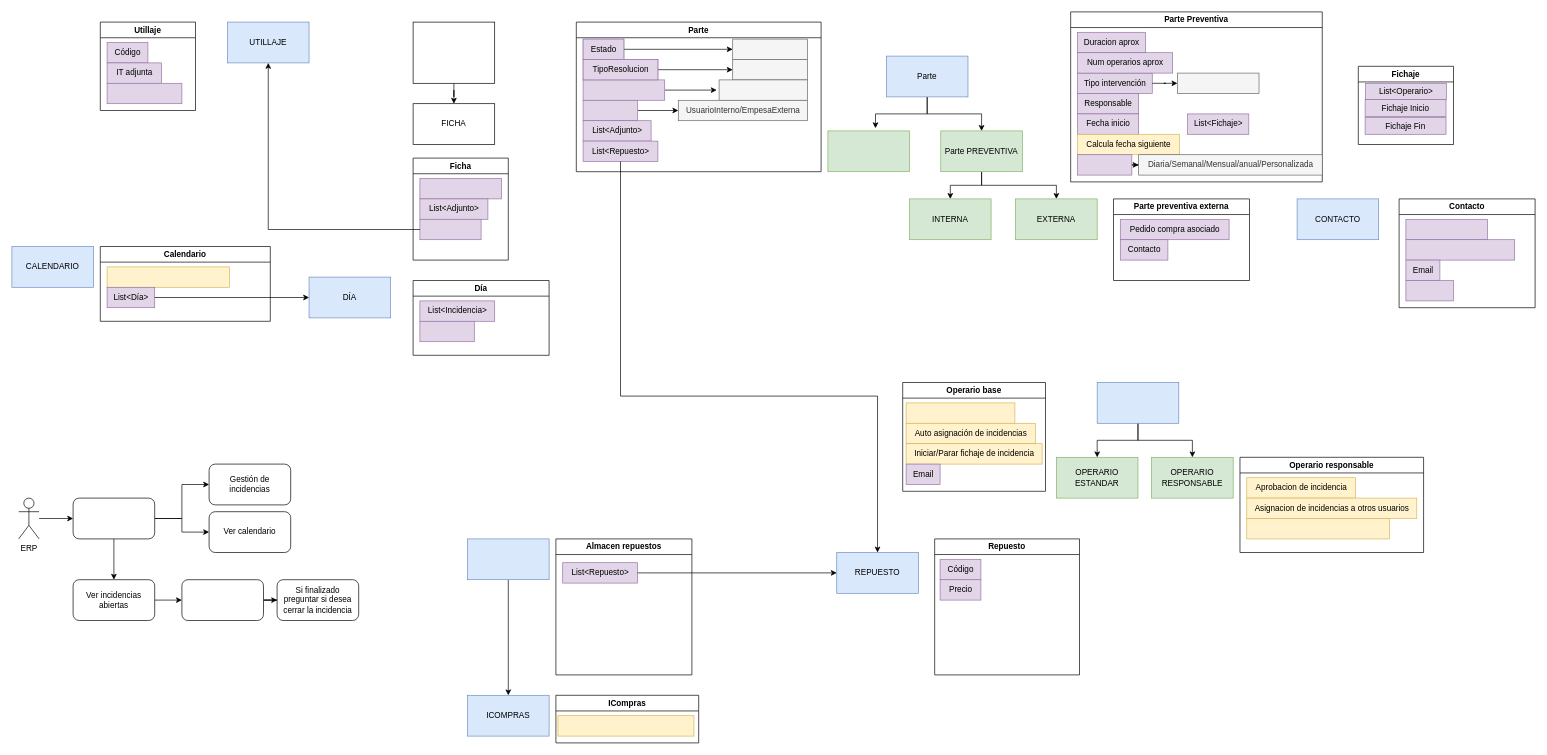
This 1547x755 diagram has some shape labels left out. The centre of each missing label's shape, as x and y in pixels:
Abierta/Cerrada: the point at 770,49
ALMACÉN REPUESTO: the point at 508,559
Asignación: the point at 610,110
Comprobación de categoría de operario: the point at 113,518
Creación de solicitud de compras: the point at 625,725
EstadoAprobacion: the point at 623,89
Fichar inicio/Fin incidencia: the point at 222,599
Frecuencia: the point at 1104,164
Generacion de incidencias: the point at 960,412
Interna/Externa: the point at 770,69
List<Hora>: the point at 446,331
List<Preventivo>: the point at 144,93
List<Utillaje>: the point at 450,229
Lista<Incidencia>: the point at 460,188
Modificación de incidencia cerrada: the point at 1318,528
Nombre empresa: the point at 1446,229
Nombre persona contacto: the point at 1460,249
OPERARIO: the point at 1137,402
Parte CORRECTIVA: the point at 868,151
Pendiente/Aprobada: the point at 763,89
PUESTO (GFH): the point at 453,52
Recálculo anual de calendario: the point at 168,276
Teléfono: the point at 1429,290
Utillaje/Limpieza...: the point at 1218,83
